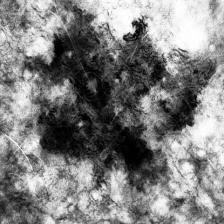Benign Marking or Mole: (28, 3, 216, 175)
